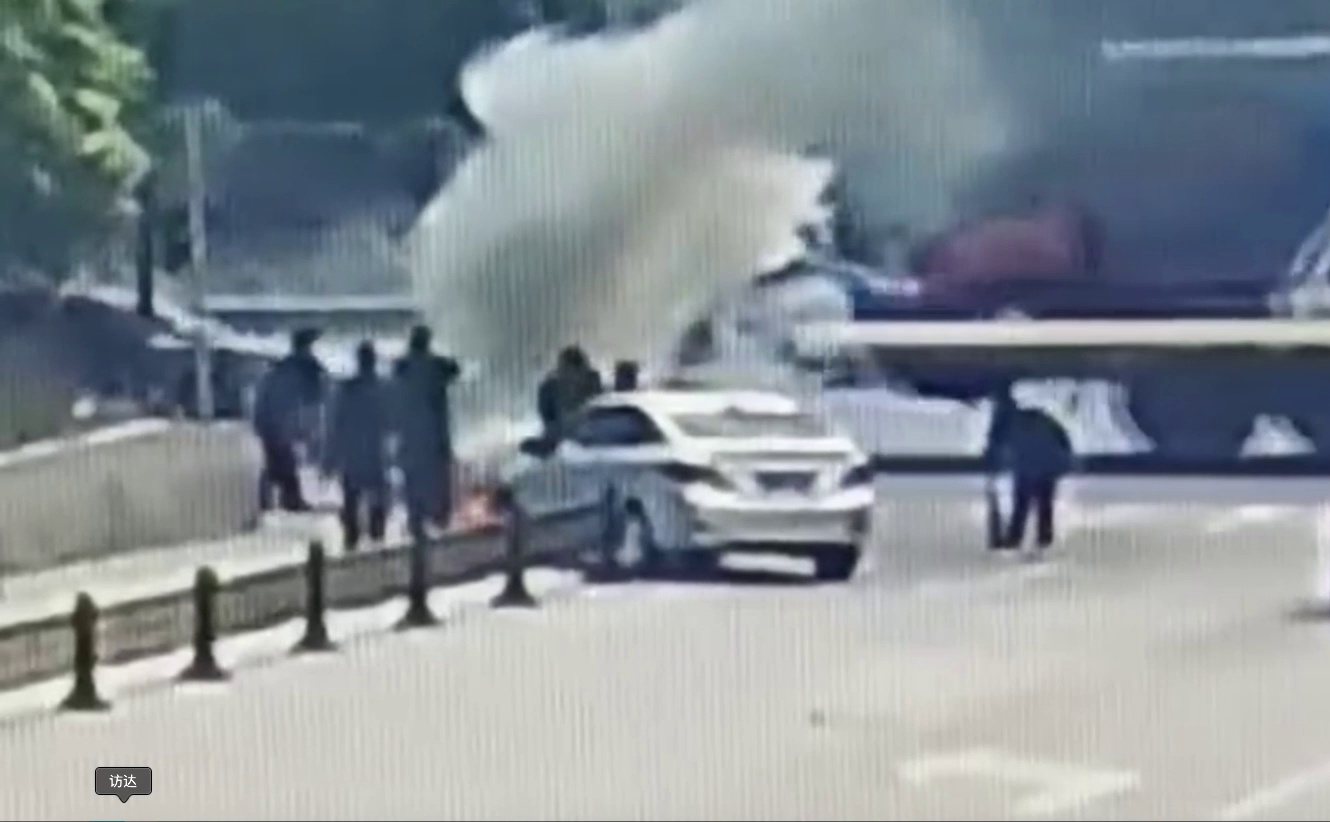smoke: (398, 43, 931, 451)
